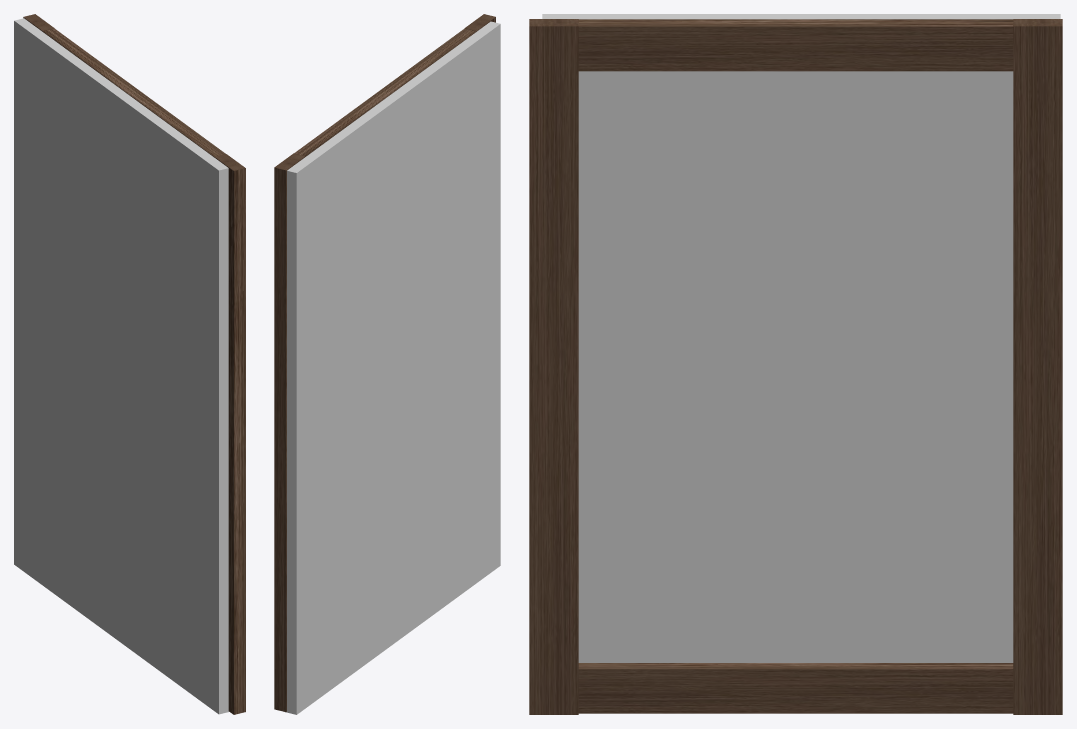
Rendered from Fish.fbx.
3 views of the same model, side by side, from view 1: azimuth 30°, elevation 25°; view 2: azimuth 150°, elevation 25°; view 3: azimuth 270°, elevation 25° (orthographic). The views are drawn at different scales.
Visible parts, largest first — view 1: Cube, Cube.001, Cube.004; view 2: Cube, Cube.002, Cube.004; view 3: Cube, Cube.001, Cube.002, Cube.004, Cube.003.
Boxes of the visible parts, x1,y1,x2,y2 form: Cube: [14, 18, 229, 714]; Cube.001: [214, 154, 245, 714]; Cube.004: [42, 28, 225, 156]; Cube: [285, 21, 500, 714]; Cube.002: [274, 153, 305, 711]; Cube.004: [294, 28, 476, 156]; Cube: [542, 14, 1060, 662]; Cube.001: [529, 19, 578, 714]; Cube.002: [1013, 19, 1062, 714]; Cube.004: [578, 19, 1013, 71]; Cube.003: [578, 663, 1013, 713].
Size of the model in its own units: 10.55 by 251 by 176.
